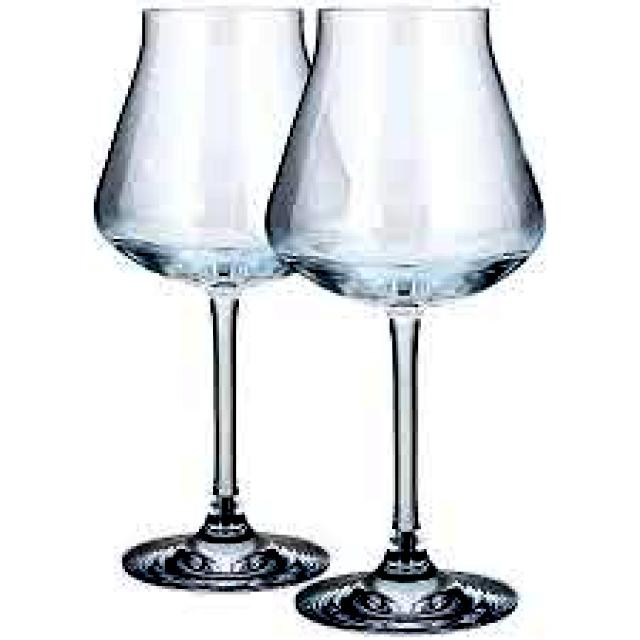Glass: (264, 2, 551, 640), (89, 0, 357, 597)
